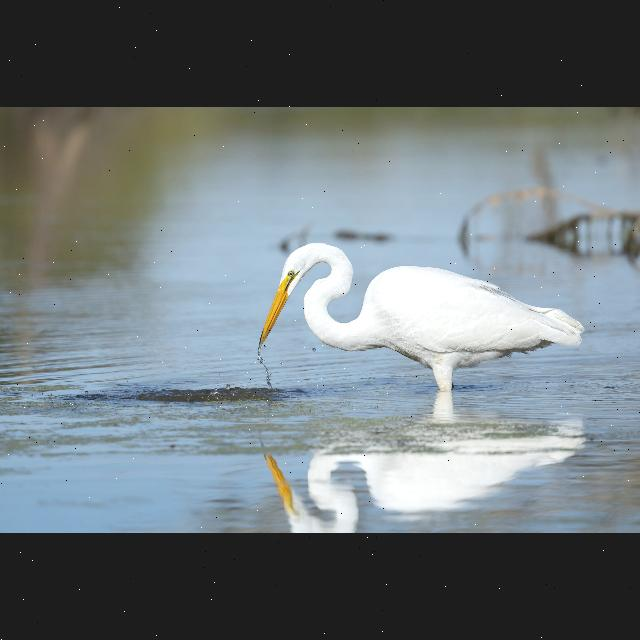egret: (246, 232, 588, 396)
